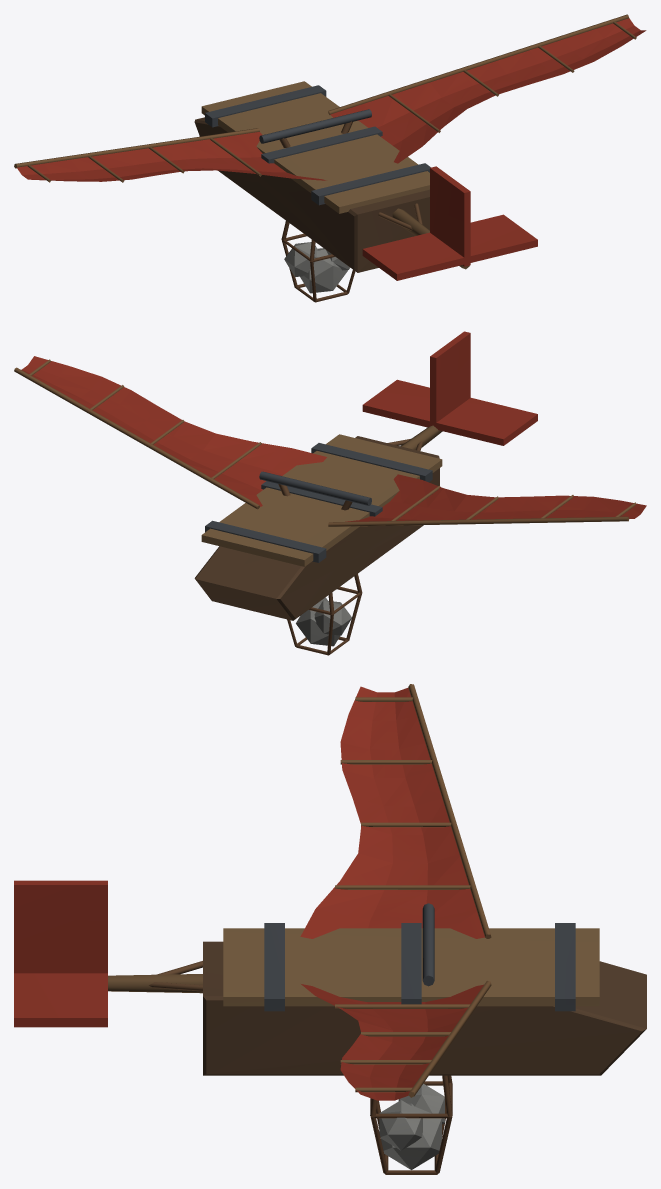
Rendered from ornithopter.glb.
The picture shows the model from 3 angles, top to bottom: view 1: azimuth 30°, elevation 25°; view 2: azimuth 150°, elevation 25°; view 3: azimuth 270°, elevation 25°; orthographic projection. The views are drawn at different scales.
Visible parts, largest first — view 1: ornithopter-body, ornithopter-wing-right, ornithopter-wing-left; view 2: ornithopter-body, ornithopter-wing-right, ornithopter-wing-left; view 3: ornithopter-body, ornithopter-wing-left, ornithopter-wing-right.
Boxes of the visible parts, bbox=[...] form: ornithopter-body: bbox=[194, 81, 537, 302]; ornithopter-wing-right: bbox=[328, 14, 646, 163]; ornithopter-wing-left: bbox=[14, 128, 326, 182]; ornithopter-body: bbox=[194, 331, 537, 655]; ornithopter-wing-right: bbox=[14, 356, 326, 509]; ornithopter-wing-left: bbox=[328, 474, 646, 526]; ornithopter-body: bbox=[14, 880, 646, 1174]; ornithopter-wing-left: bbox=[300, 684, 491, 938]; ornithopter-wing-right: bbox=[301, 981, 491, 1100].
Size of the model in its own units: 1.13 by 0.363 by 0.7405.
